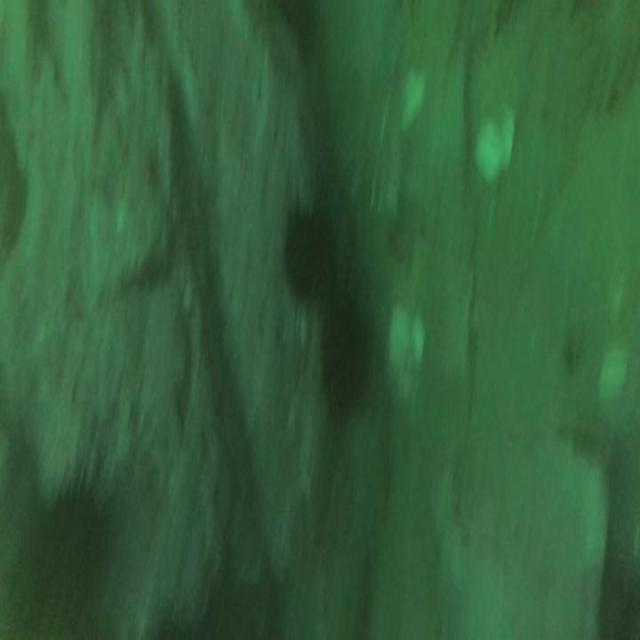echinus: (12, 452, 120, 640), (314, 280, 378, 430), (278, 178, 340, 310)
